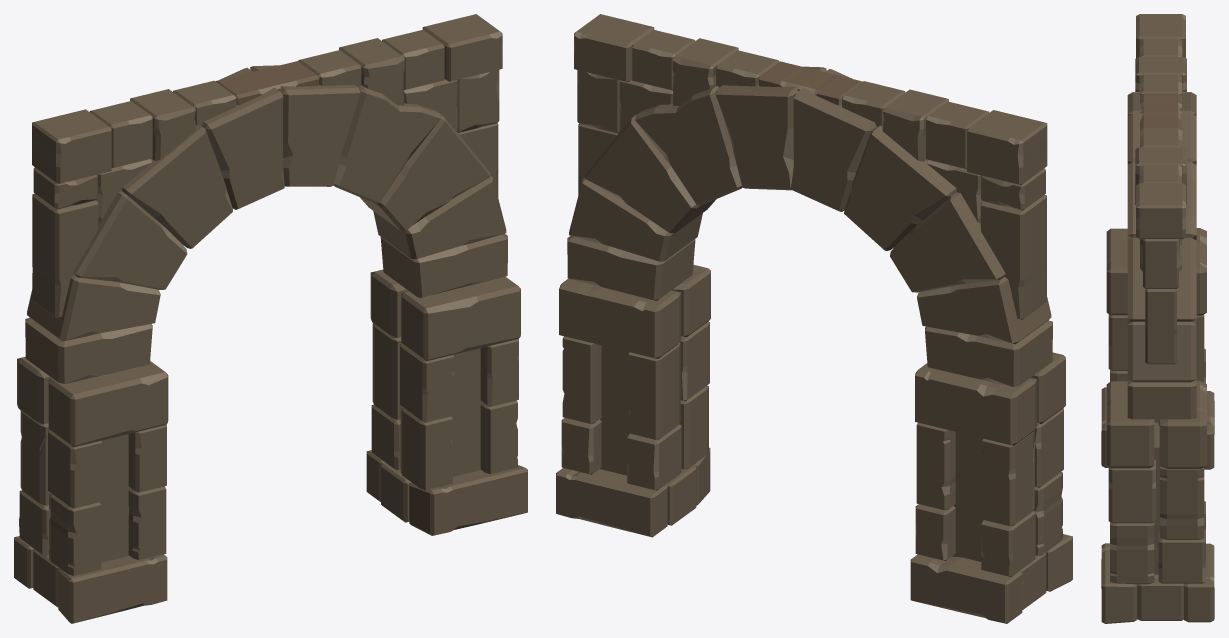
The model's file is Arch.glb.
3 renders of one model, left to right at view 1: azimuth 30°, elevation 25°; view 2: azimuth 150°, elevation 25°; view 3: azimuth 270°, elevation 25°, orthographic. The views are drawn at different scales.
Visible parts, largest first — view 1: Arch; view 2: Arch; view 3: Arch.
Part boxes in pixels (box(x1,y1,x2,y2)): Arch: box(14, 14, 527, 623); Arch: box(556, 14, 1072, 623); Arch: box(1101, 14, 1214, 623).
Bounding box in the file's own units: 4.1 × 4.01 × 0.9926.
